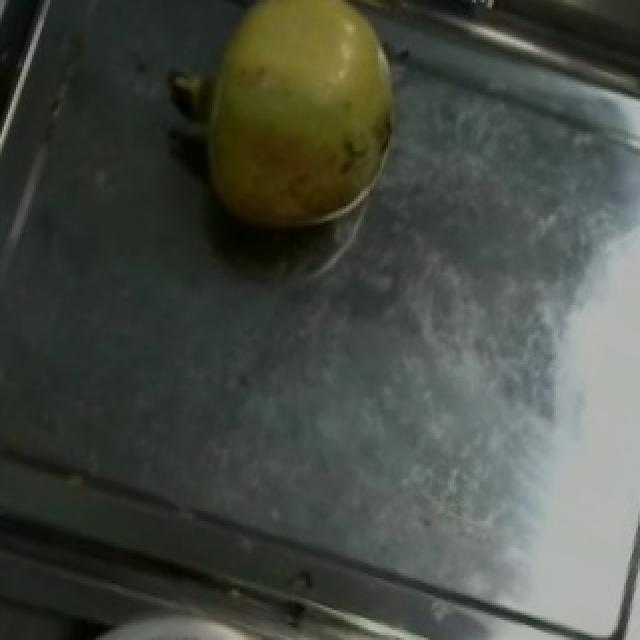fruit: (160, 0, 434, 256)
